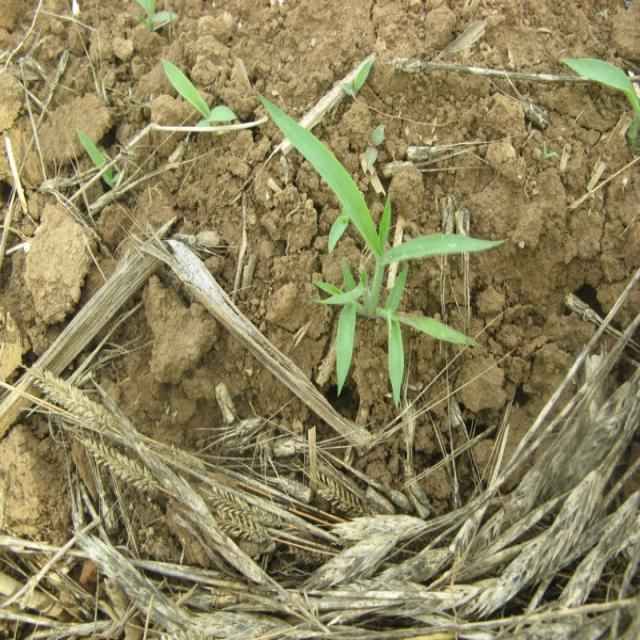bg: (256, 95, 497, 402)
